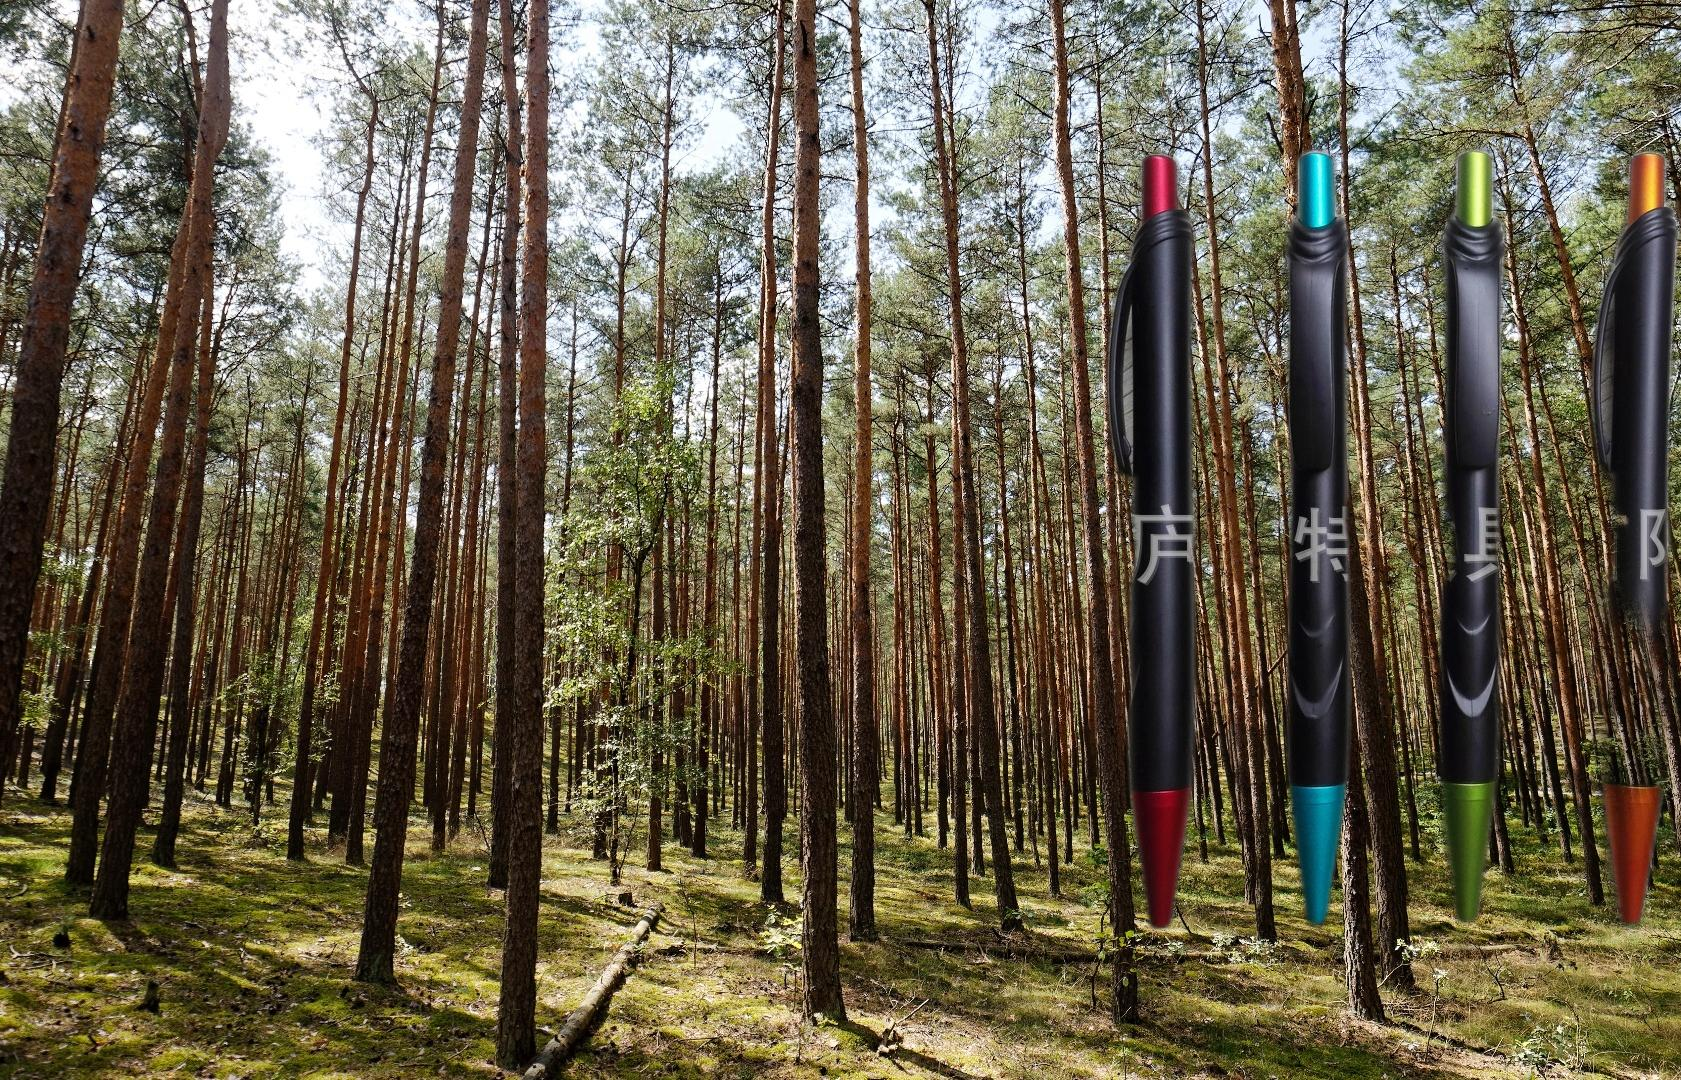penholder: (1098, 139, 1681, 1014)
